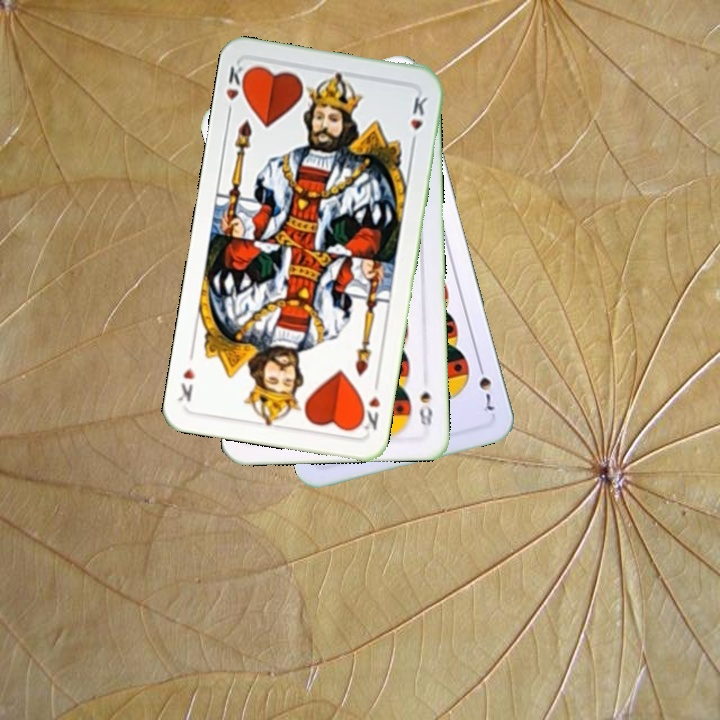HK: (222, 60, 252, 119), (355, 377, 383, 433)
S7: (474, 358, 496, 414)
S8: (415, 387, 436, 429)
